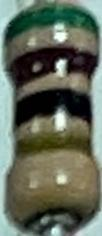Black: (3, 47, 99, 86), (14, 86, 90, 131)
Green: (3, 4, 100, 47)
Side-Gold: (10, 133, 95, 165)
